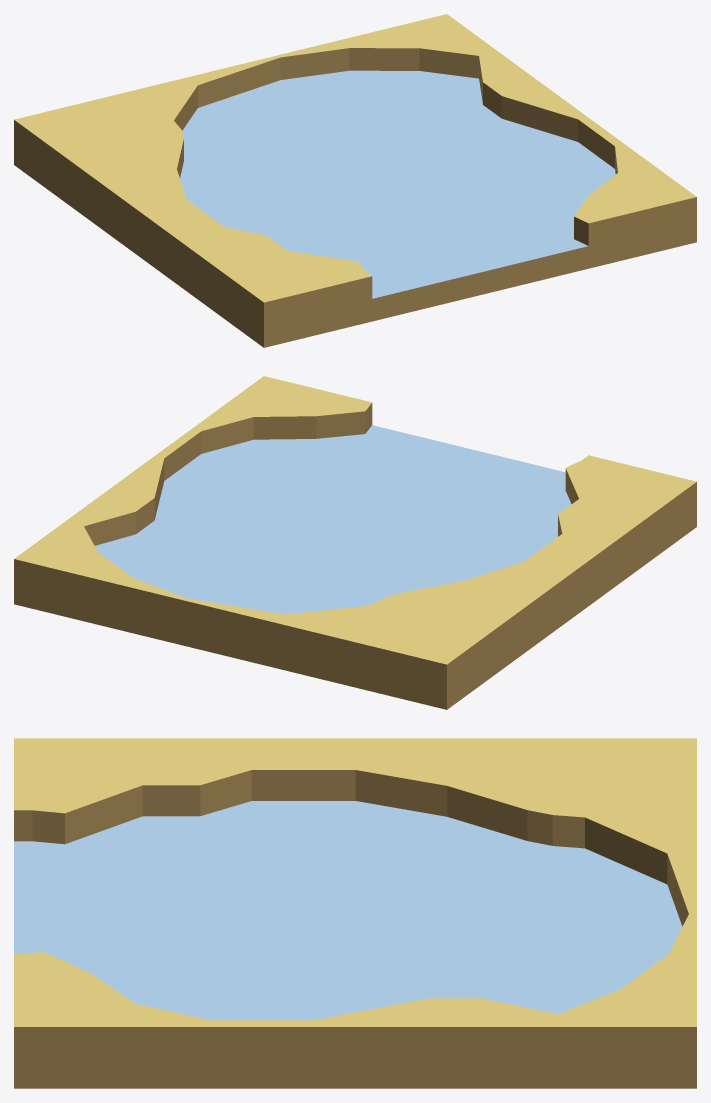
File: Terrain_Modular_Tiles_Sand_Dirt_River_End_01.fbx
3 renders of one model, top to bottom at view 1: azimuth 30°, elevation 25°; view 2: azimuth 150°, elevation 25°; view 3: azimuth 270°, elevation 25°, orthographic. The views are drawn at different scales.
Visible parts, largest first — view 1: Terrain_Modular_Tiles_Sand_Dirt_River_End_01; view 2: Terrain_Modular_Tiles_Sand_Dirt_River_End_01; view 3: Terrain_Modular_Tiles_Sand_Dirt_River_End_01.
Part boxes in pixels (x1,y1,x2,y2): Terrain_Modular_Tiles_Sand_Dirt_River_End_01: (14, 14, 696, 347); Terrain_Modular_Tiles_Sand_Dirt_River_End_01: (14, 376, 696, 709); Terrain_Modular_Tiles_Sand_Dirt_River_End_01: (14, 738, 696, 1088).
Size of the model in its own units: 3000 by 300 by 3000.
